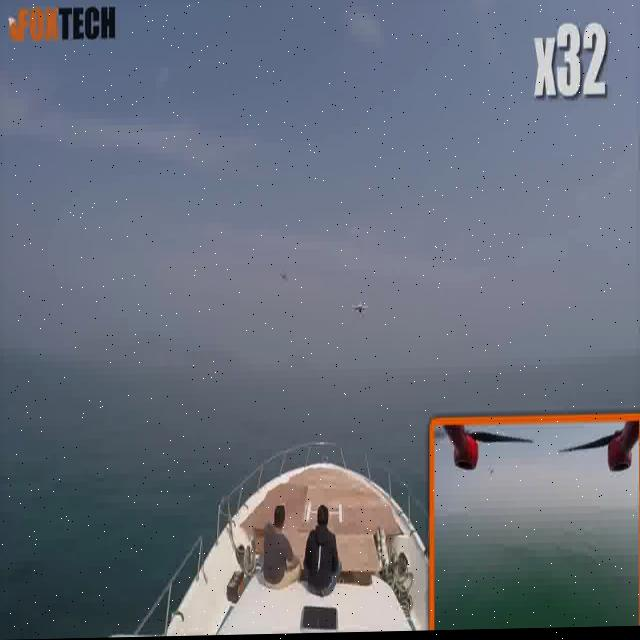drone: (347, 289, 372, 323)
